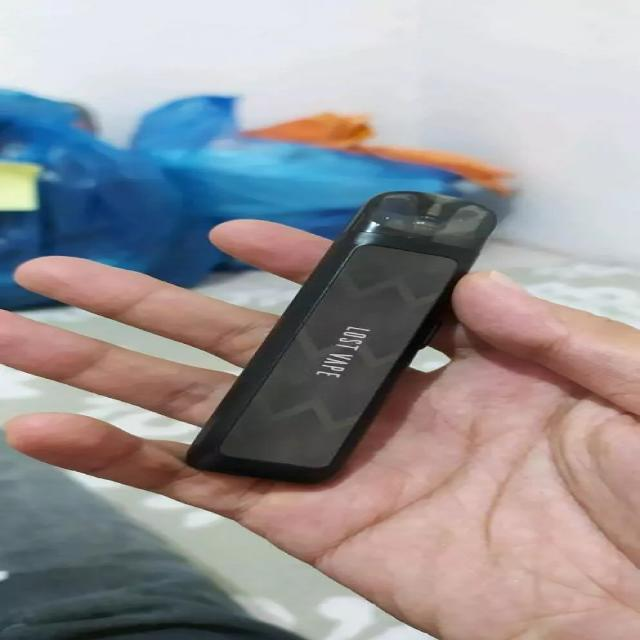Hazard: (186, 186, 499, 482)
